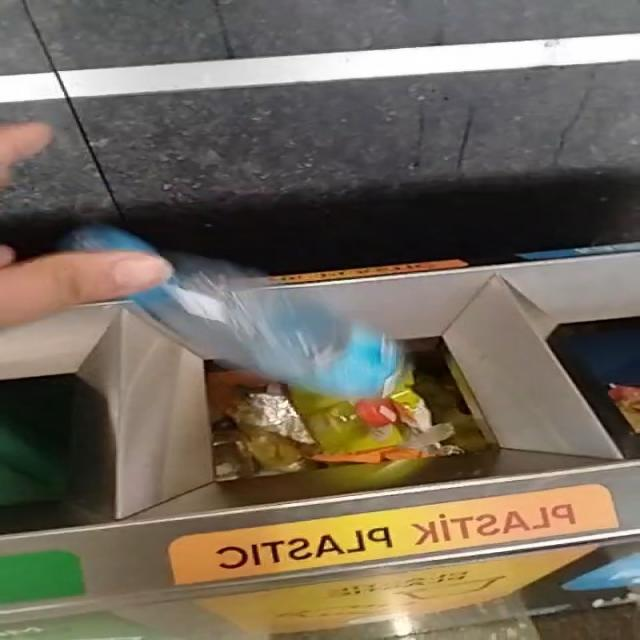Plastic: (131, 254, 403, 400), (63, 228, 148, 249)
